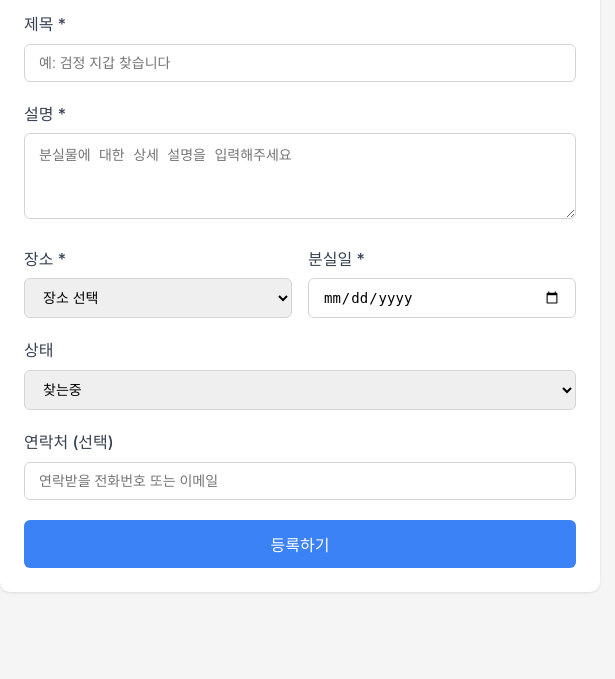
Test: ItemForm › 제목이 비어있으면 "제목은 필수입니다" 에러를 표시한다
# 제목을 비운 채로 폼 제출
Click the button "등록하기": {"x": 300, "y": 544} [24,520,576,568]
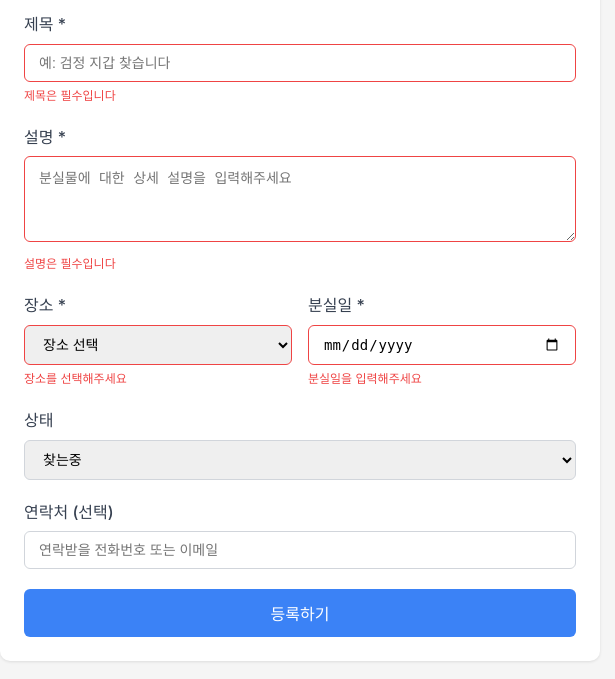
Now the text "제목은 필수입니다" is shown, box [24,88,116,103]
